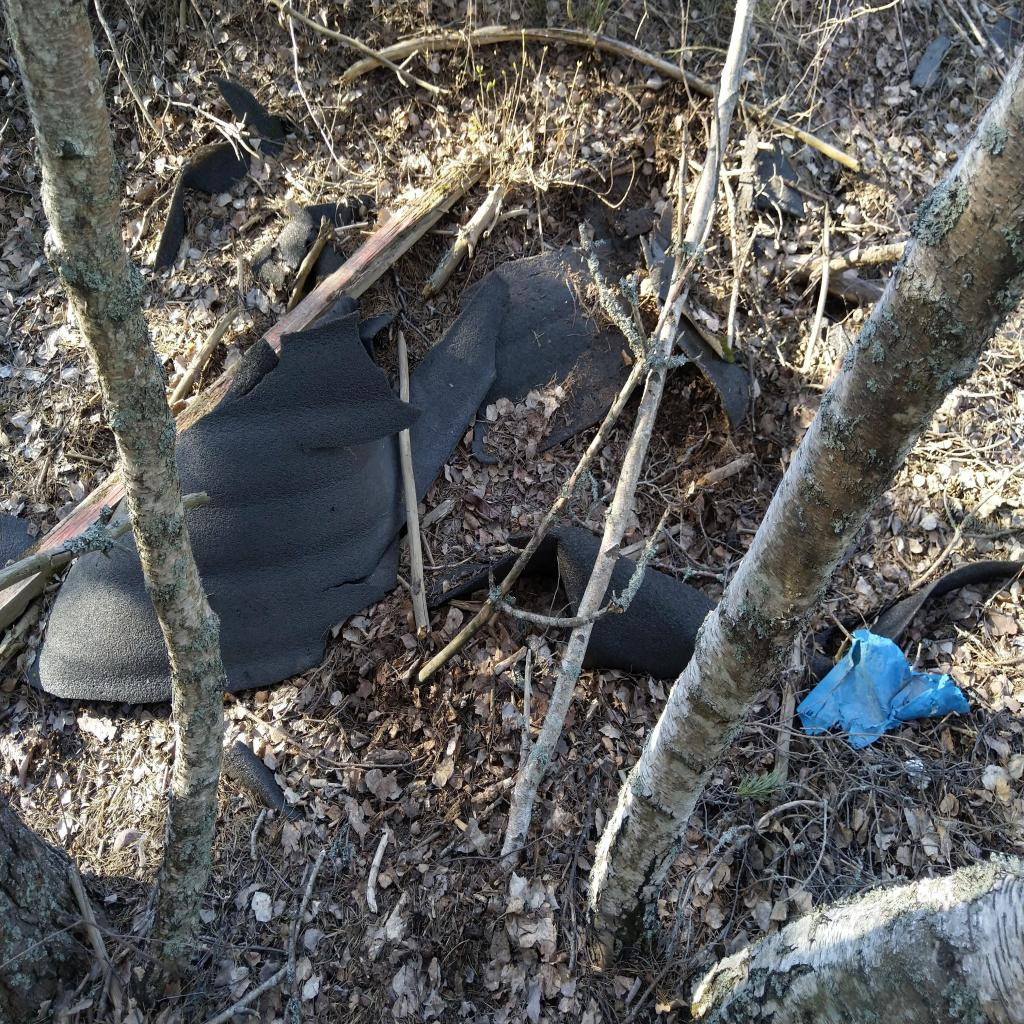Other plastic bottle: (24, 245, 636, 703), (426, 525, 1024, 687), (154, 73, 288, 273), (250, 194, 374, 292), (222, 740, 308, 821), (757, 140, 804, 217), (0, 513, 42, 569)
Plastic film: (796, 629, 970, 749)
Styrofoam piece: (904, 760, 932, 792)
